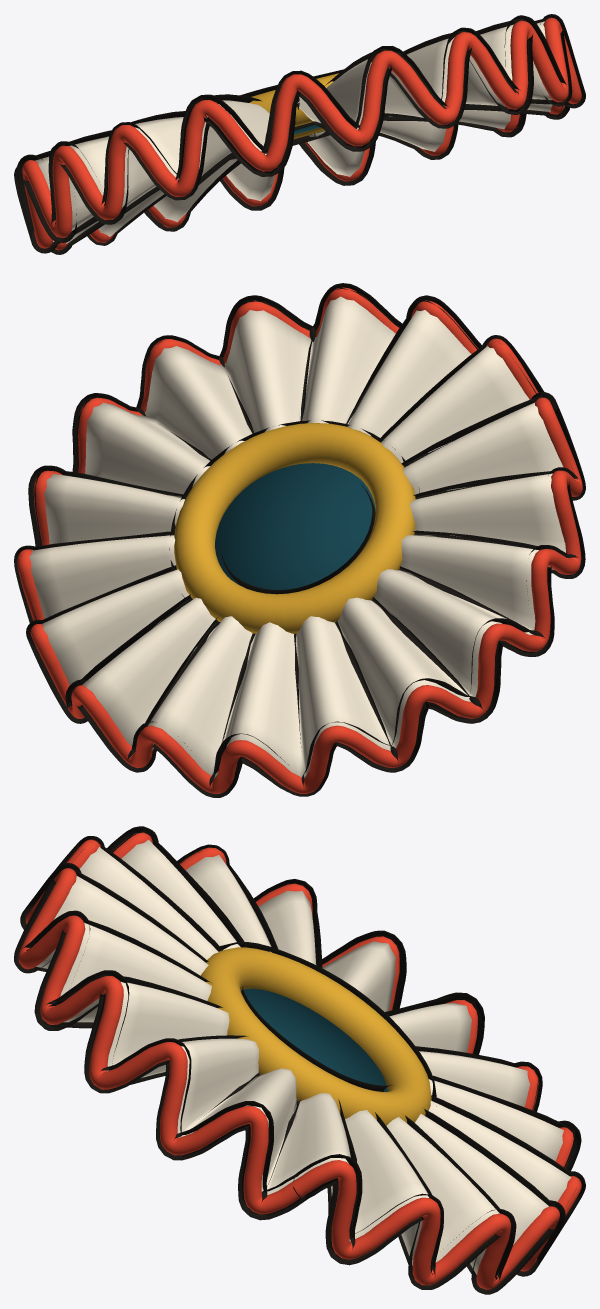
File: ruff.glb
The picture shows the model from 3 angles, top to bottom: view 1: azimuth 30°, elevation 25°; view 2: azimuth 150°, elevation 25°; view 3: azimuth 270°, elevation 25°; orthographic projection. The views are drawn at different scales.
Parts seen in each view (by area): view 1: Ruff, Ruff_outline; view 2: Ruff, Ruff_outline; view 3: Ruff, Ruff_outline.
Boxes of the visible parts, bbox=[...] form: Ruff: bbox=[22, 17, 581, 250]; Ruff_outline: bbox=[14, 14, 585, 254]; Ruff: bbox=[17, 287, 582, 793]; Ruff_outline: bbox=[14, 283, 585, 797]; Ruff: bbox=[18, 832, 581, 1289]; Ruff_outline: bbox=[14, 826, 585, 1294].
Bounding box in the file's own units: 2.76 × 1.81 × 2.53.
